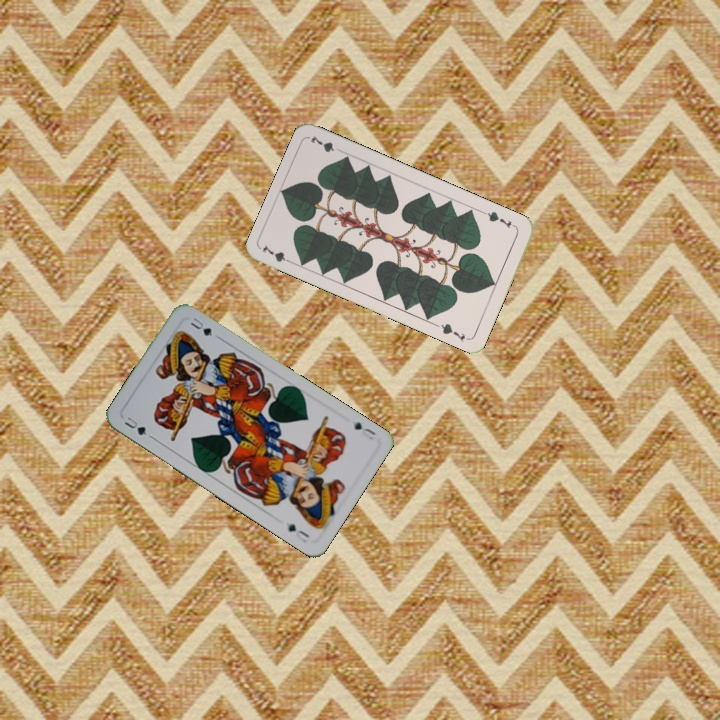G7: (259, 241, 297, 267), (480, 207, 519, 231)
GU: (350, 417, 378, 443), (120, 413, 149, 438)
